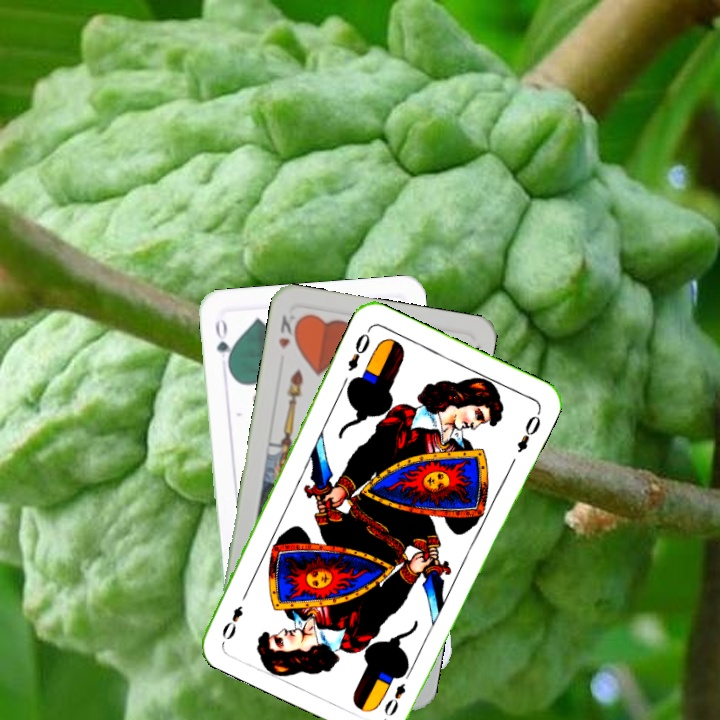EO: (380, 665, 415, 719), (343, 325, 373, 374)
GO: (211, 315, 235, 373)
HK: (274, 311, 303, 351)
